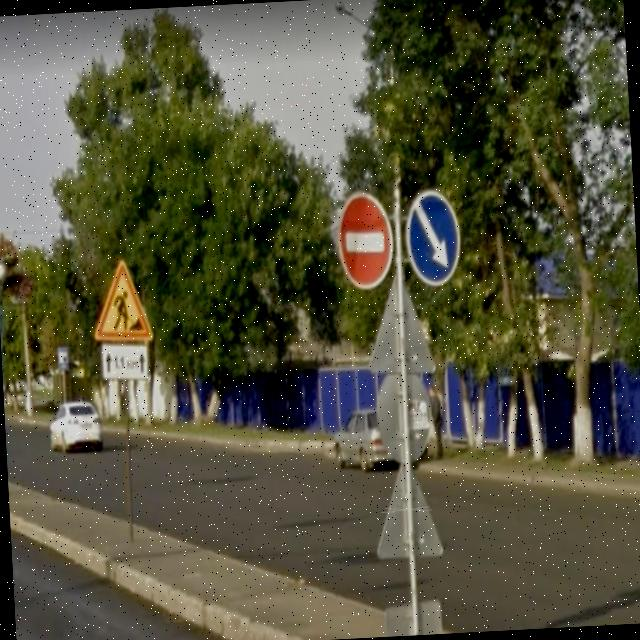Zakaz wjazdu: (332, 184, 400, 294)
